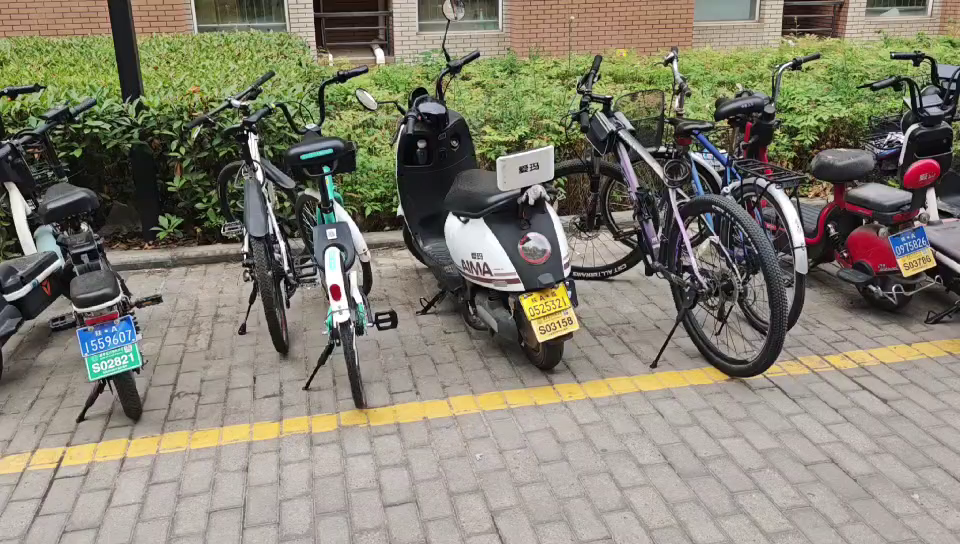others: (563, 74, 782, 401), (377, 66, 570, 360), (729, 41, 921, 336), (656, 43, 813, 361), (7, 115, 162, 418), (179, 85, 289, 354), (866, 42, 960, 315)
shared_bike_qingcong: (259, 73, 381, 415)
